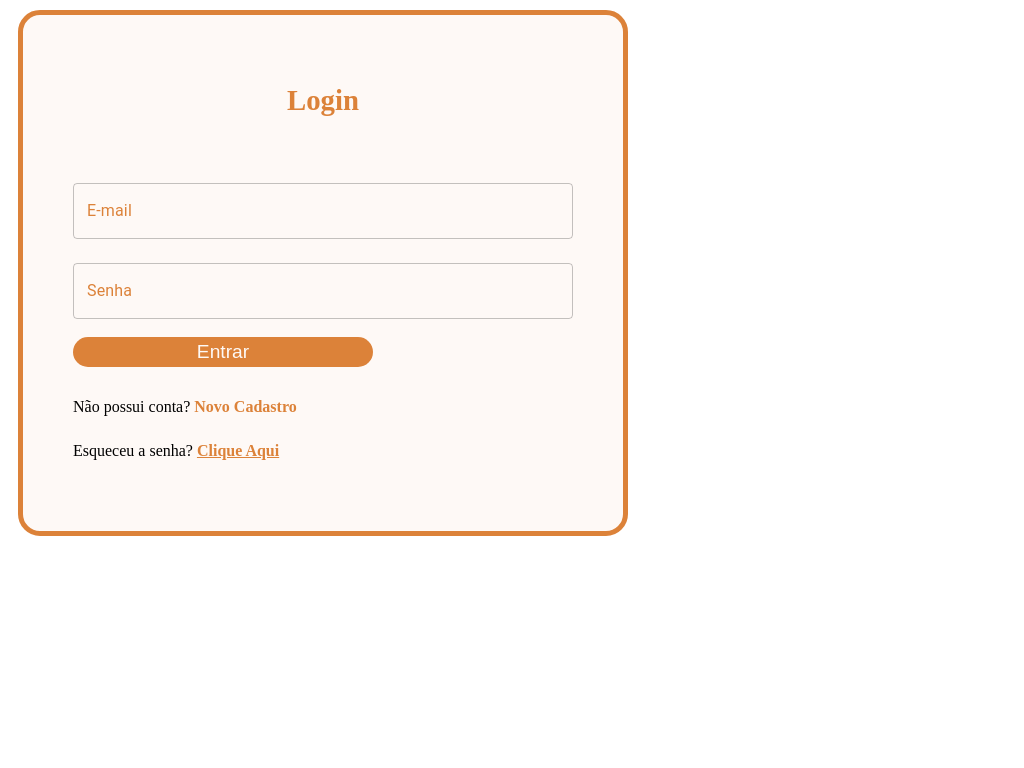
Scenario: <LoginPage /> › should open subscribe modal when clicking "Novo Cadastro"
Click the text "Novo Cadastro": click(245, 407) [194,398,296,415]
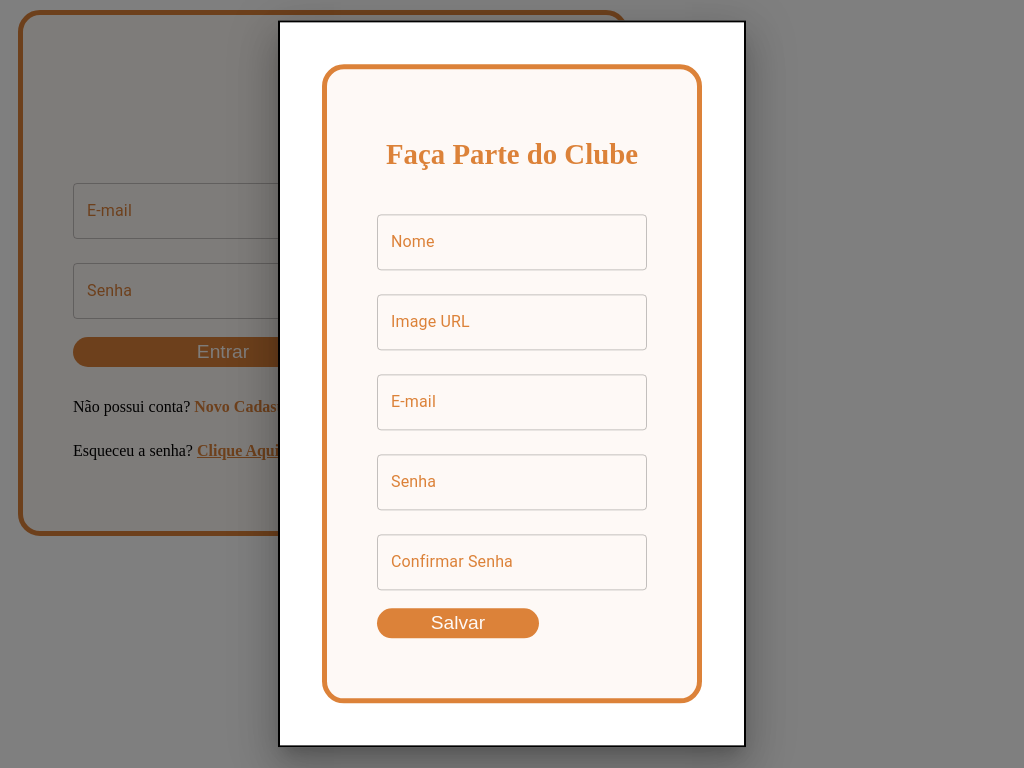
Result: the dialog is shown at [278,20,746,747]
